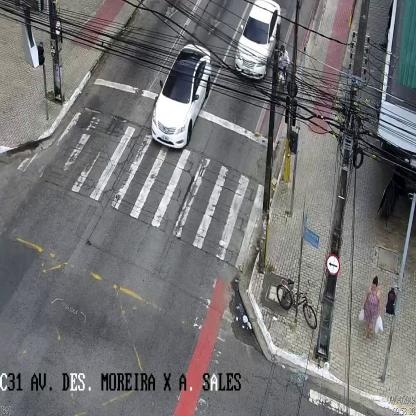bicycle: (276, 276, 318, 329)
car: (151, 43, 212, 147), (234, 0, 280, 74)
person: (357, 276, 383, 346), (278, 44, 290, 88)
